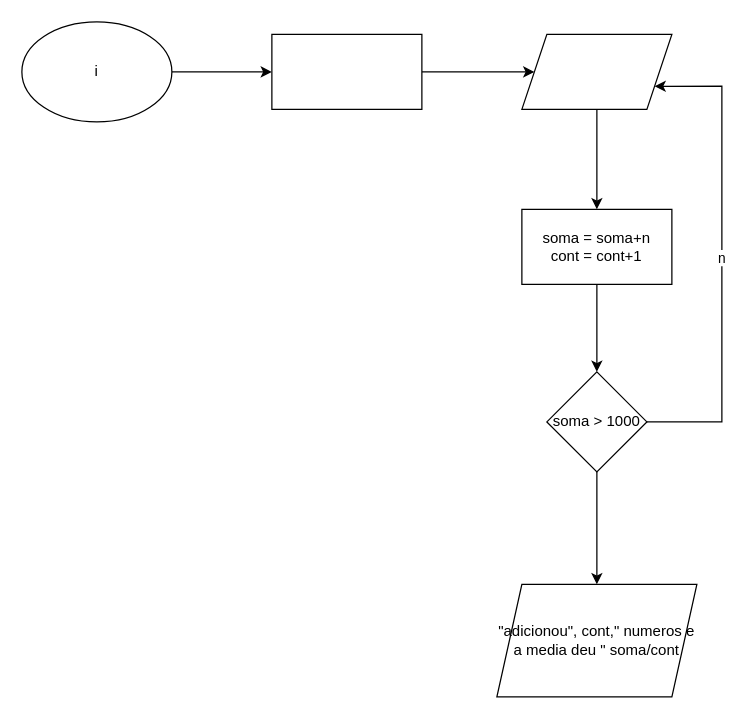
Some shapes in this 754 by 719 pixel diagram are drawn without their labels. The shapes that lost their labels are listed below. From the top down, each one's centre as x and y in pixels, then its label:
At point (346, 71): "cont= 0 soma = 0".
At point (596, 71): "ler n".
